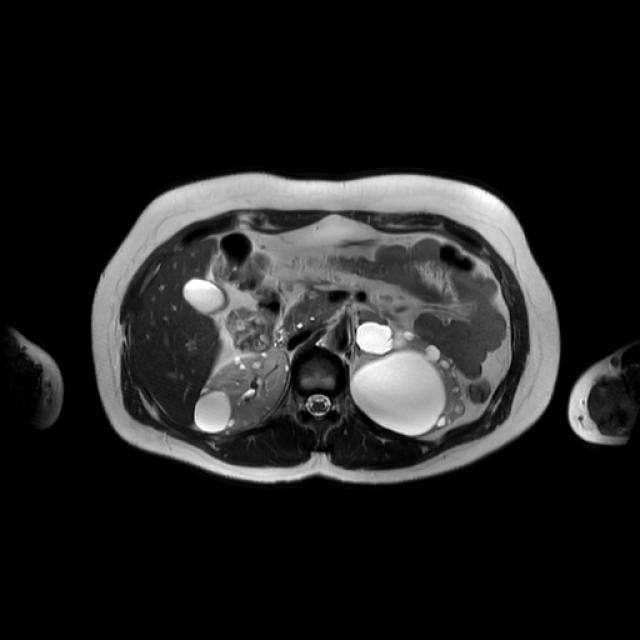sag: (193, 347, 291, 434)
sol: (351, 320, 464, 434)
